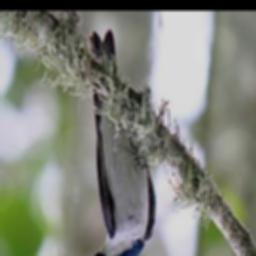Swallow: (85, 27, 156, 256)
